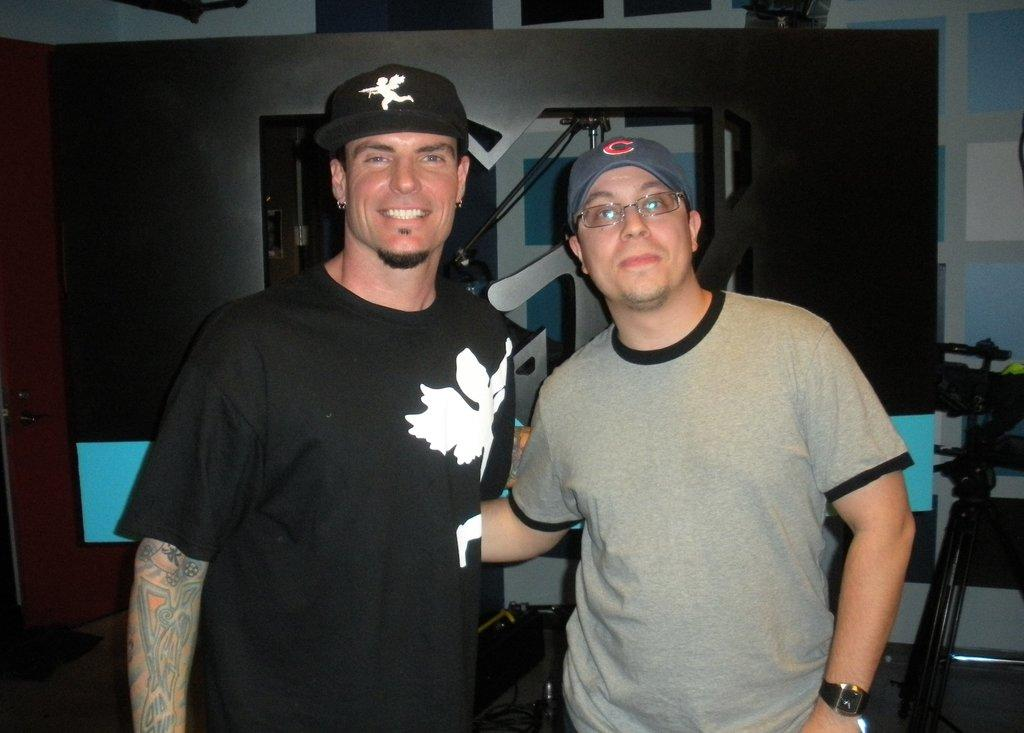Hat: (314, 66, 466, 158), (568, 138, 694, 226)
